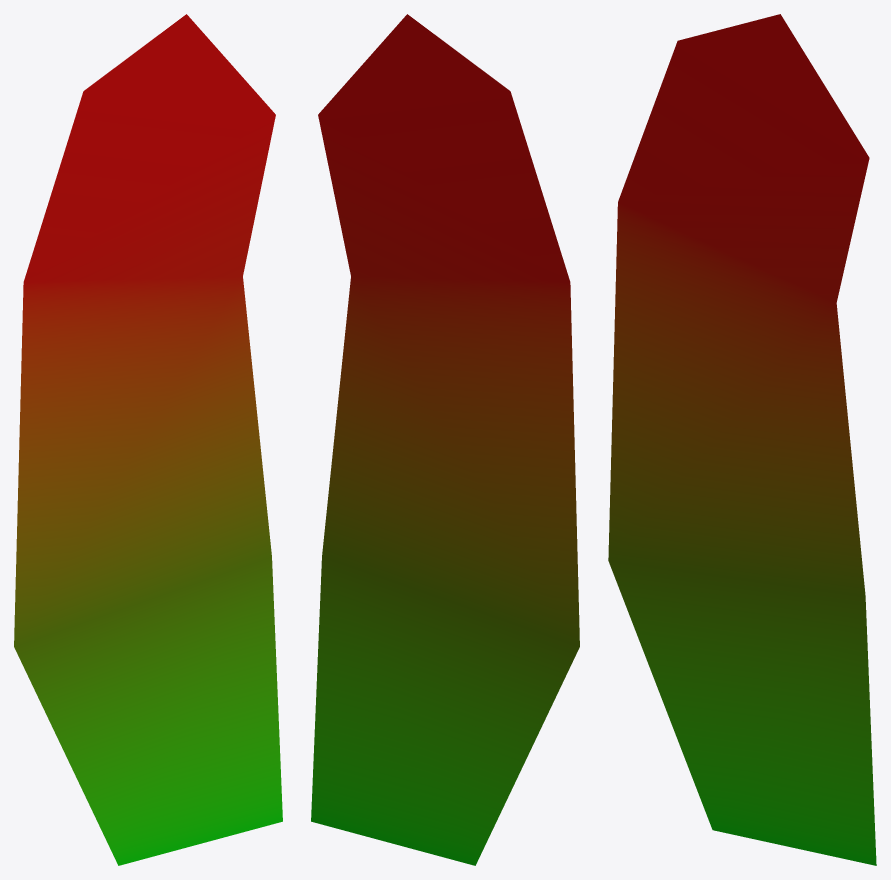
The model's file is Rubber Bush_LOD7_Var5_xffhfekia.fbx.
The picture shows the model from 3 angles, left to right: view 1: azimuth 30°, elevation 25°; view 2: azimuth 150°, elevation 25°; view 3: azimuth 330°, elevation 25°; orthographic projection.
Visible parts, largest first — view 1: _kev6_Var5_LOD7; view 2: _kev6_Var5_LOD7; view 3: _kev6_Var5_LOD7.
Part boxes in pixels (bbox=[...]): _kev6_Var5_LOD7: bbox=[14, 14, 282, 865]; _kev6_Var5_LOD7: bbox=[311, 14, 579, 865]; _kev6_Var5_LOD7: bbox=[608, 14, 876, 865].
Size of the model in its own units: 24.15 by 71.66 by 1.35e-05.
